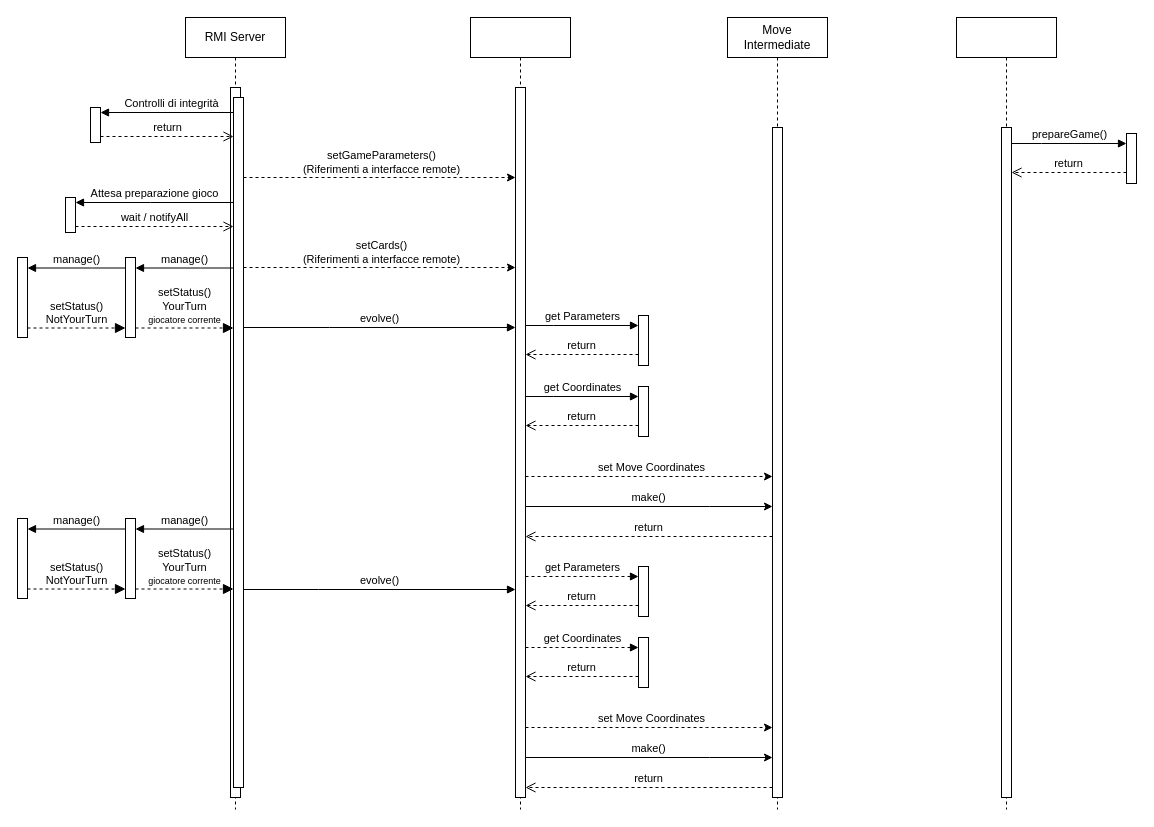
Some shapes in this 1154 by 827 pixel diagram are drawn without their labels. Each missing label, with the box of its shape:
GameController: (956, 16, 1056, 810)
RMI Client: (470, 16, 570, 810)
